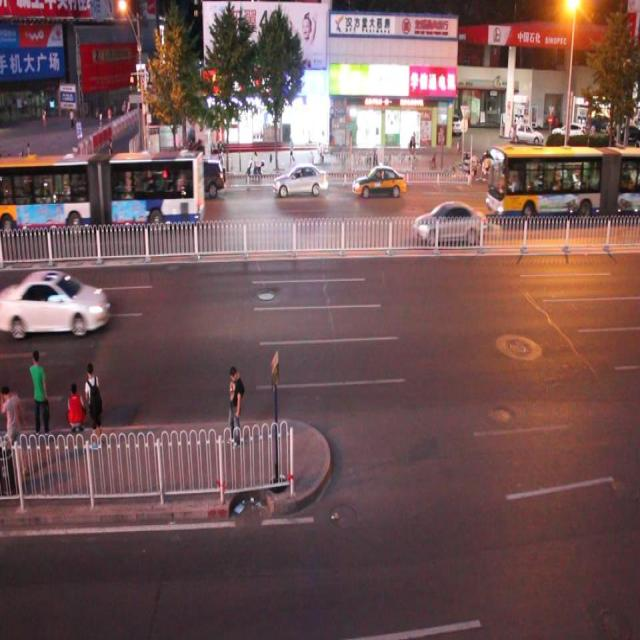car: (482, 144, 640, 221), (9, 270, 107, 336), (412, 200, 484, 242), (68, 176, 116, 217), (351, 165, 404, 200), (179, 156, 224, 197), (272, 163, 326, 197), (10, 181, 55, 214), (1, 166, 14, 204)
van: (1, 152, 204, 232)
